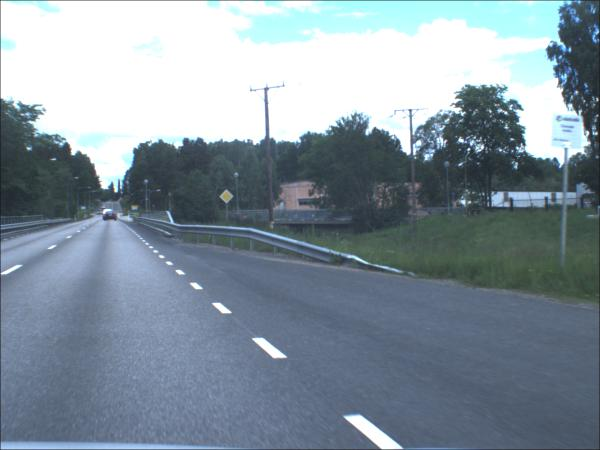PRIORITY_ROAD: (220, 190, 237, 205)
